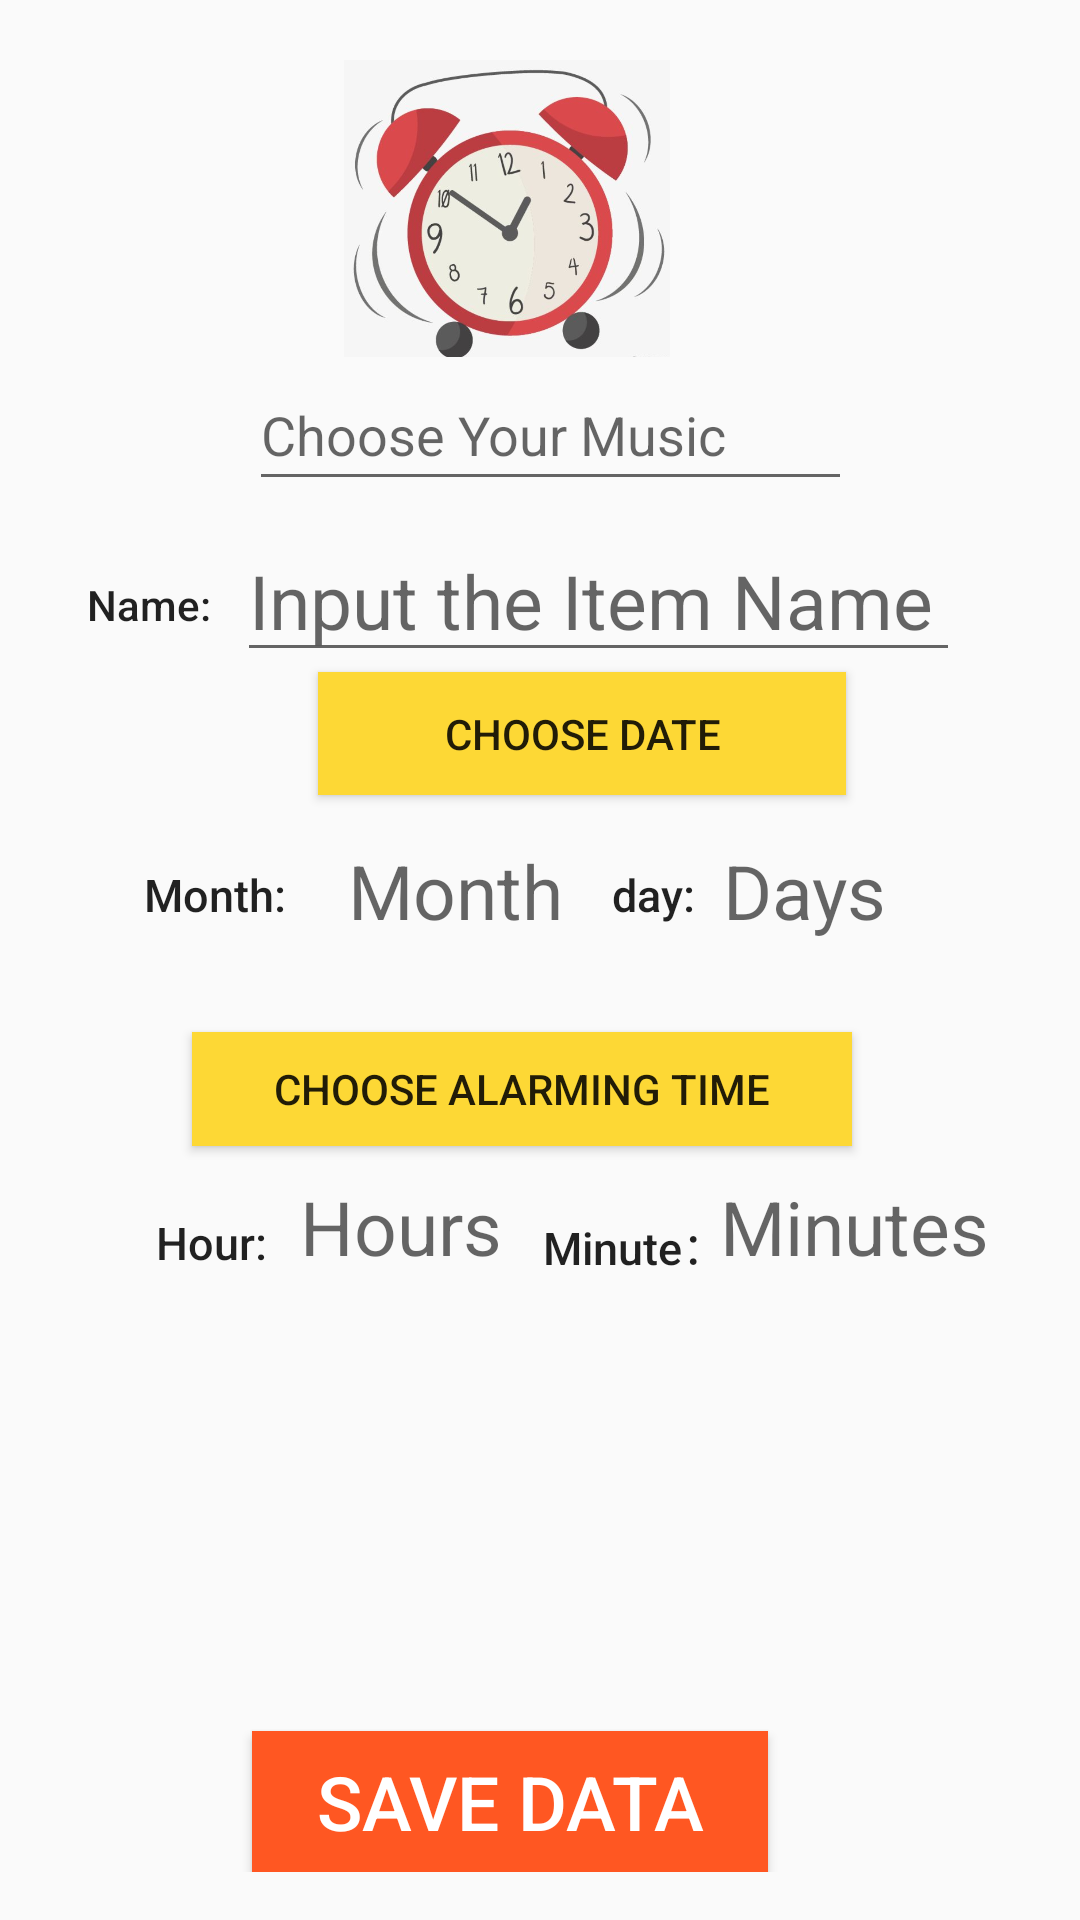

Icons on this 1080×1920 Android screen, each with the point to tap as [x,y]:
clock: [509,213]
